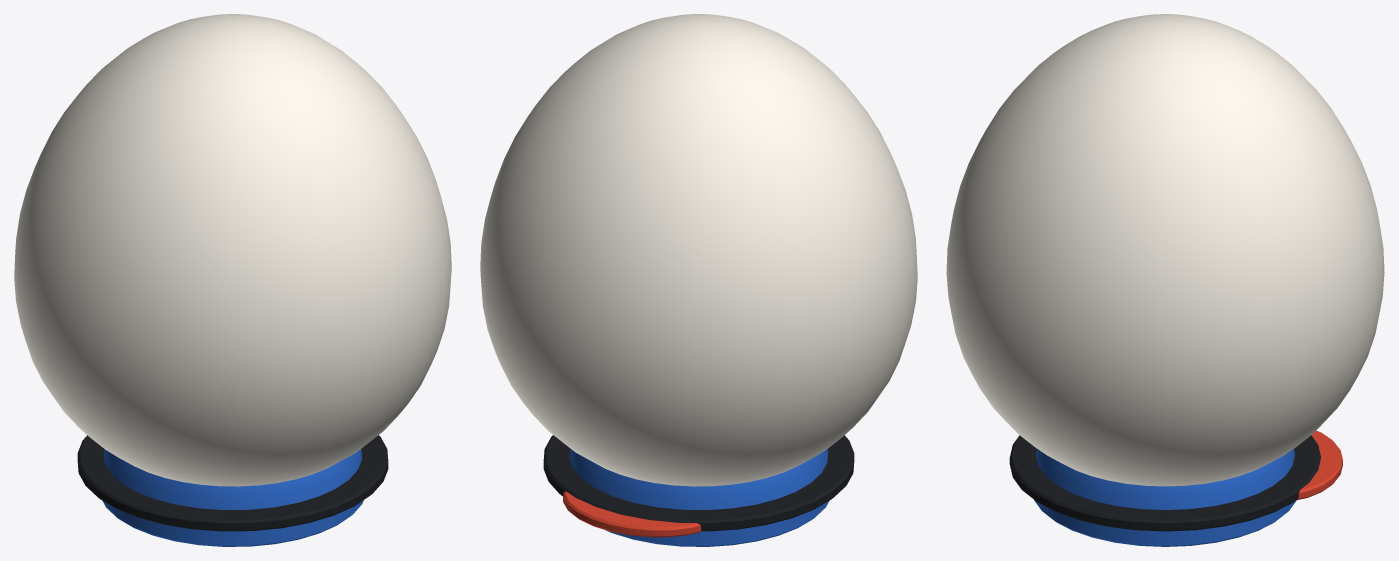
The model's file is eggs.glb.
3 views of the same model, side by side, from view 1: azimuth 30°, elevation 25°; view 2: azimuth 150°, elevation 25°; view 3: azimuth 270°, elevation 25° (orthographic).
Parts seen in each view (by area): view 1: shell, brim.001, knit, fold; view 2: shell, brim.001, knit, brim, fold; view 3: shell, brim.001, knit, fold, brim.
Part boxes in pixels (x1,y1,x2,y2): shell: [14, 14, 451, 486]; brim.001: [77, 435, 388, 531]; knit: [103, 448, 362, 509]; fold: [102, 500, 363, 546]; shell: [480, 14, 917, 486]; brim.001: [543, 435, 854, 531]; knit: [569, 448, 828, 509]; brim: [563, 491, 702, 537]; fold: [605, 500, 829, 546]; shell: [946, 14, 1384, 486]; brim.001: [1009, 435, 1320, 531]; knit: [1036, 448, 1294, 509]; fold: [1034, 500, 1296, 546]; brim: [1296, 430, 1342, 500].
Size of the model in its own units: 0.5627 by 0.664 by 0.5627.
